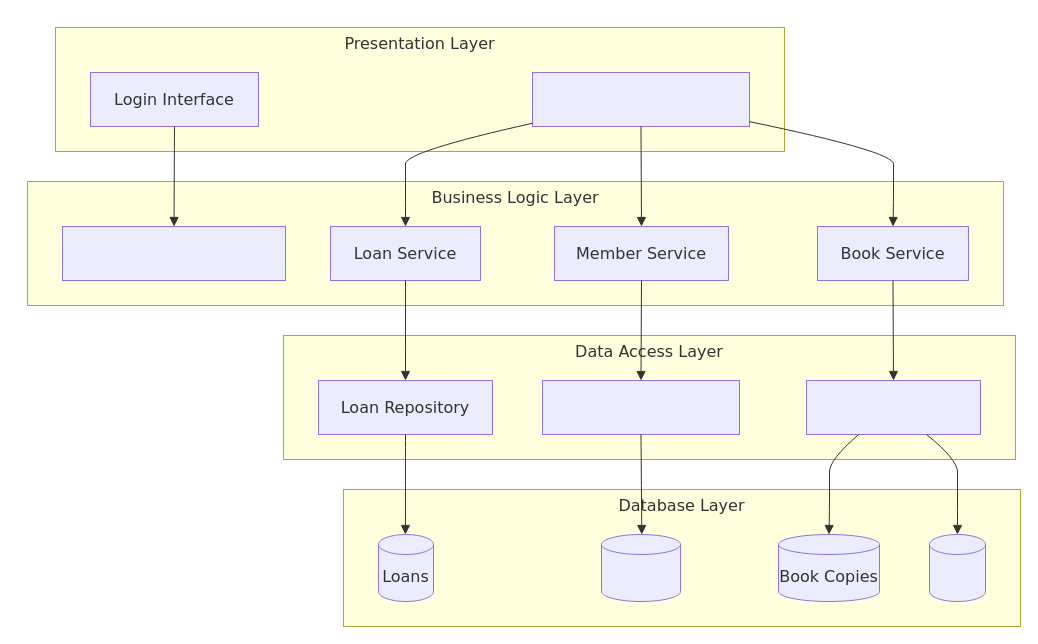
This 1038x644 diagram has some shape labels left out. Here are the shapes that lost their labels. From the top down, the centre of each, then its label:
At (641,99): "Library User Interface".
At (174,253): "Authentication Service".
At (641,407): "Member Repository".
At (893,407): "Book Repository".
At (640,568): "Members".
At (957,568): "Books".
